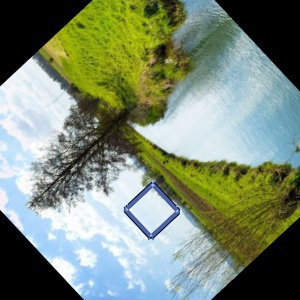square: (121, 180, 182, 241)
